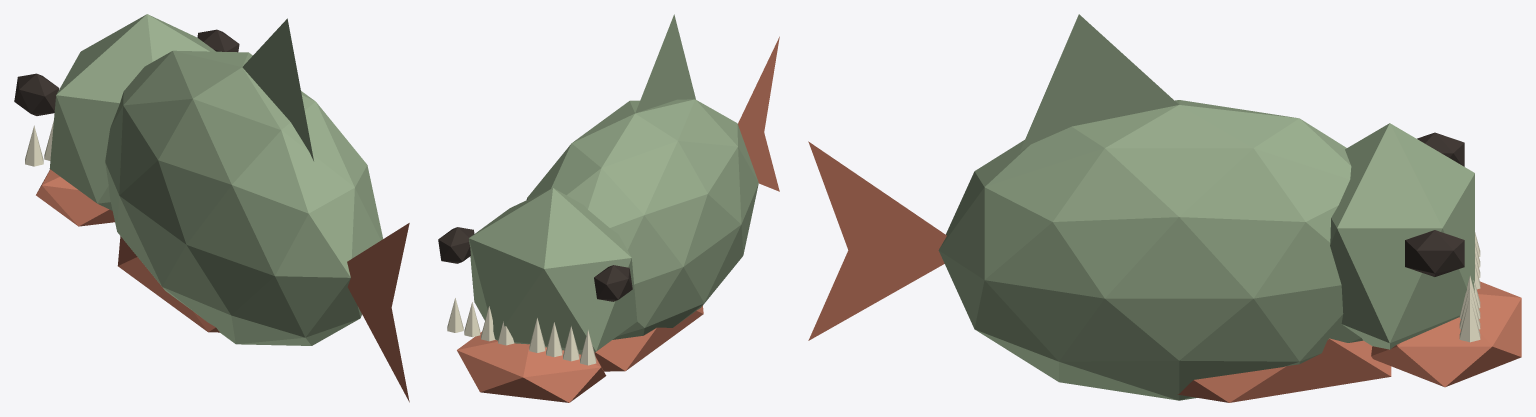
Rendered from GiantPiranha.fbx.
The picture shows the model from 3 angles, left to right: view 1: azimuth 30°, elevation 25°; view 2: azimuth 150°, elevation 25°; view 3: azimuth 270°, elevation 25°; orthographic projection. The views are drawn at different scales.
Visible parts, largest first — view 1: Body, Head, TailFin, DorsalFin, JawMesh, Belly, Eye1, Eye-1, Tooth1_3; view 2: Body, Head, JawMesh, DorsalFin, TailFin, Belly, Eye1, Eye-1, Tooth-1_3, Tooth1_1, Tooth1_3, Tooth-1_2 (+2 smaller); view 3: Body, Head, TailFin, DorsalFin, JawMesh, Belly, Eye-1, Eye1.
Part boxes in pixels (x1,y1,x2,y2): Body: (105,50,382,345); Head: (49,14,215,210); TailFin: (347,223,409,402); DorsalFin: (242,18,313,160); JawMesh: (36,169,114,226); Belly: (117,236,220,332); Eye1: (14,73,59,115); Eye-1: (197,29,239,52); Tooth1_3: (25,125,43,166); Body: (526,99,758,339); Head: (469,188,637,354); JawMesh: (457,332,606,402); DorsalFin: (635,14,695,113); TailFin: (738,36,779,191); Belly: (594,305,703,371); Eye1: (594,265,632,301); Eye-1: (438,227,474,263); Tooth-1_3: (447,298,463,332); Tooth1_1: (546,322,562,357); Tooth1_3: (580,330,596,365); Tooth-1_2: (464,302,480,337); Body: (938,100,1362,400); Head: (1330,123,1474,349); TailFin: (808,141,946,340); DorsalFin: (1020,14,1178,151); JawMesh: (1371,281,1521,387); Belly: (1177,338,1391,402); Eye-1: (1405,230,1464,276); Eye1: (1417,132,1464,166).
Size of the model in its own units: 1.1 by 1.7 by 2.85.
